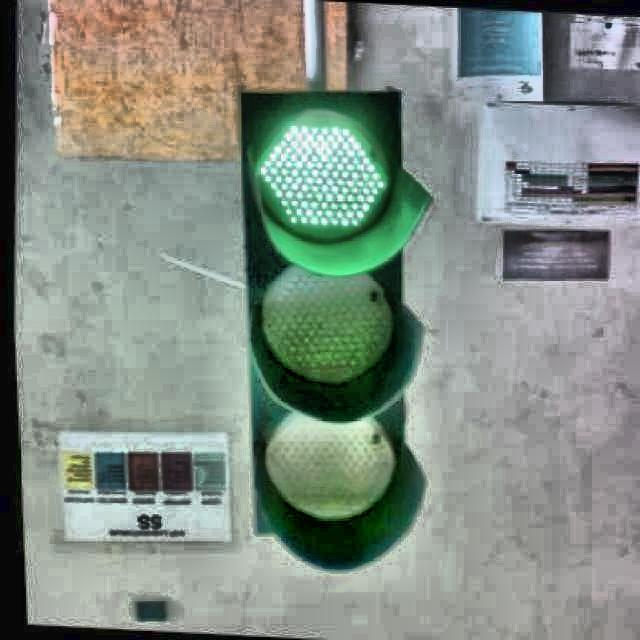green: (237, 95, 426, 567)
